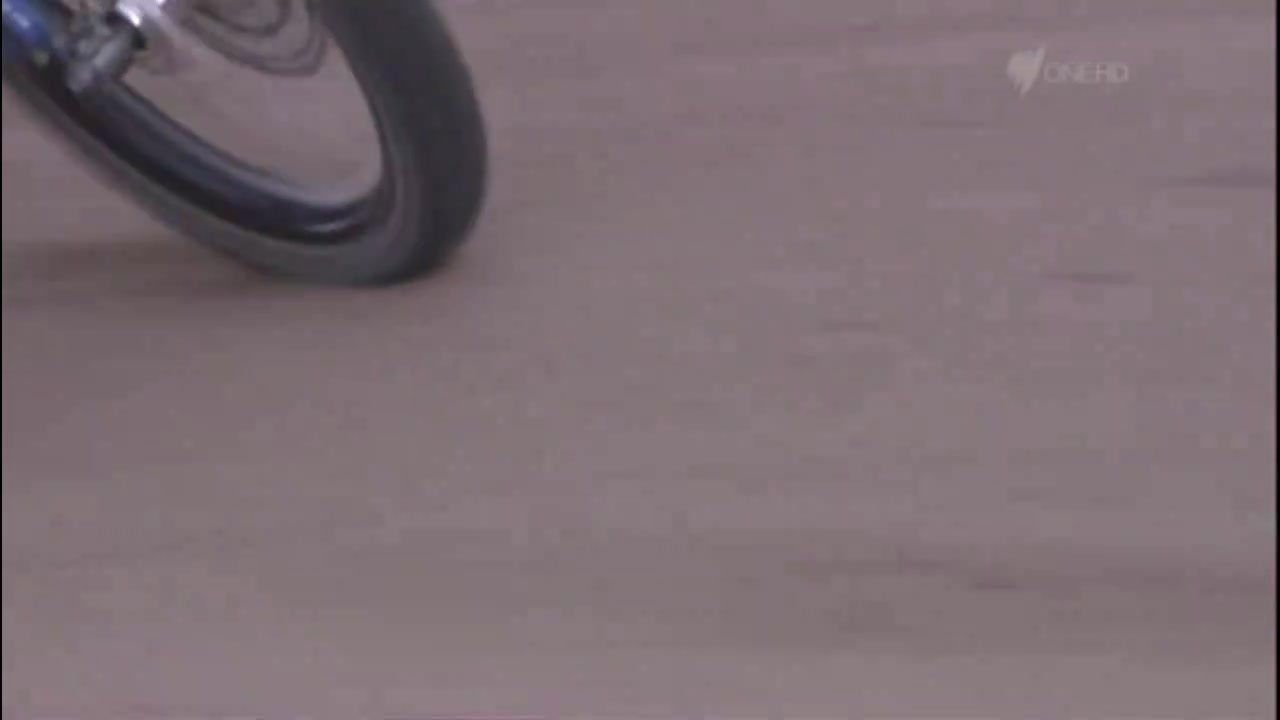motorbike: (1, 1, 490, 292)
